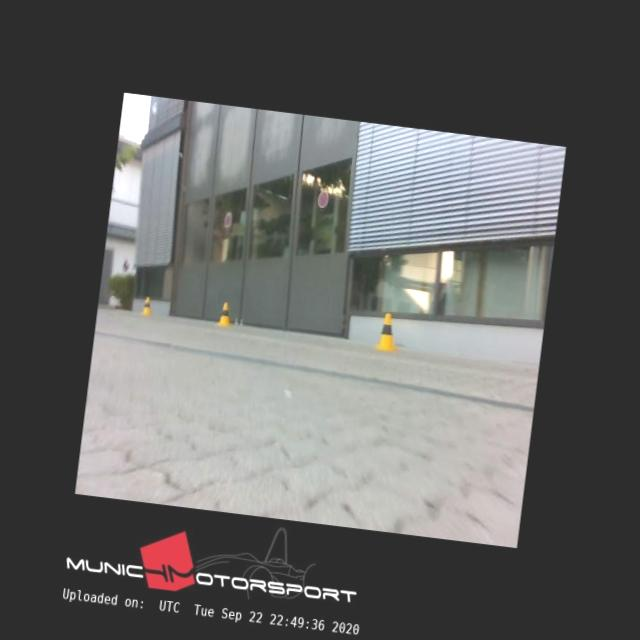yellow_cone: (375, 312, 399, 352), (216, 301, 233, 327), (140, 295, 152, 315)
